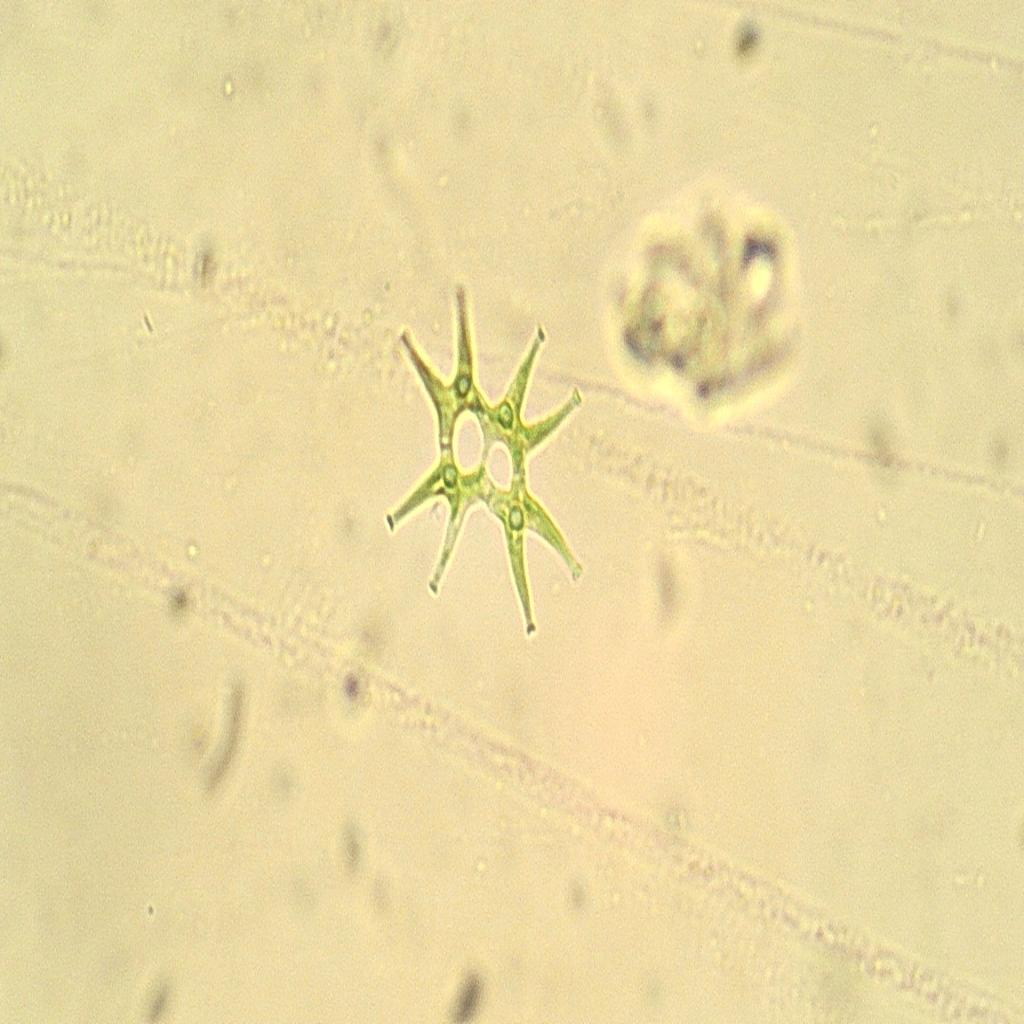Pediastrum_75FO: (377, 248, 600, 668)
